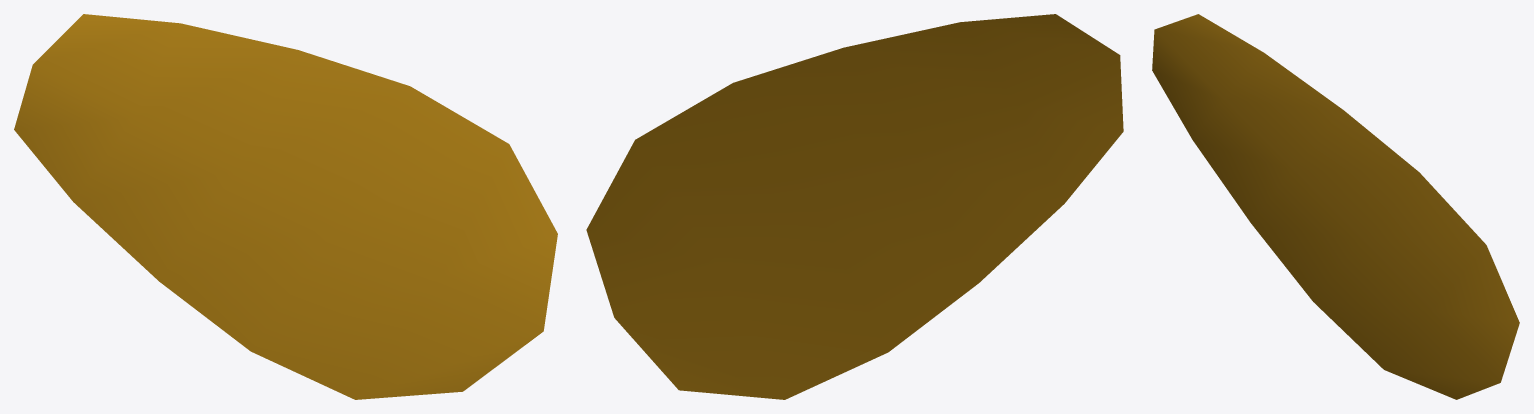
Rendered from canary_feather_flight_tertiary_028.obj.
3 renders of one model, left to right at view 1: azimuth 30°, elevation 25°; view 2: azimuth 150°, elevation 25°; view 3: azimuth 330°, elevation 25°, orthographic. The views are drawn at different scales.
Parts seen in each view (by area): view 1: feather_flight_tertiary_028; view 2: feather_flight_tertiary_028; view 3: feather_flight_tertiary_028.
Boxes of the visible parts, box(x1,y1,x2,y2) form: feather_flight_tertiary_028: box(14, 14, 557, 399); feather_flight_tertiary_028: box(586, 14, 1123, 399); feather_flight_tertiary_028: box(1152, 14, 1519, 399).
Bounding box in the file's own units: 0.00662 × 0.00549 × 0.000234.
